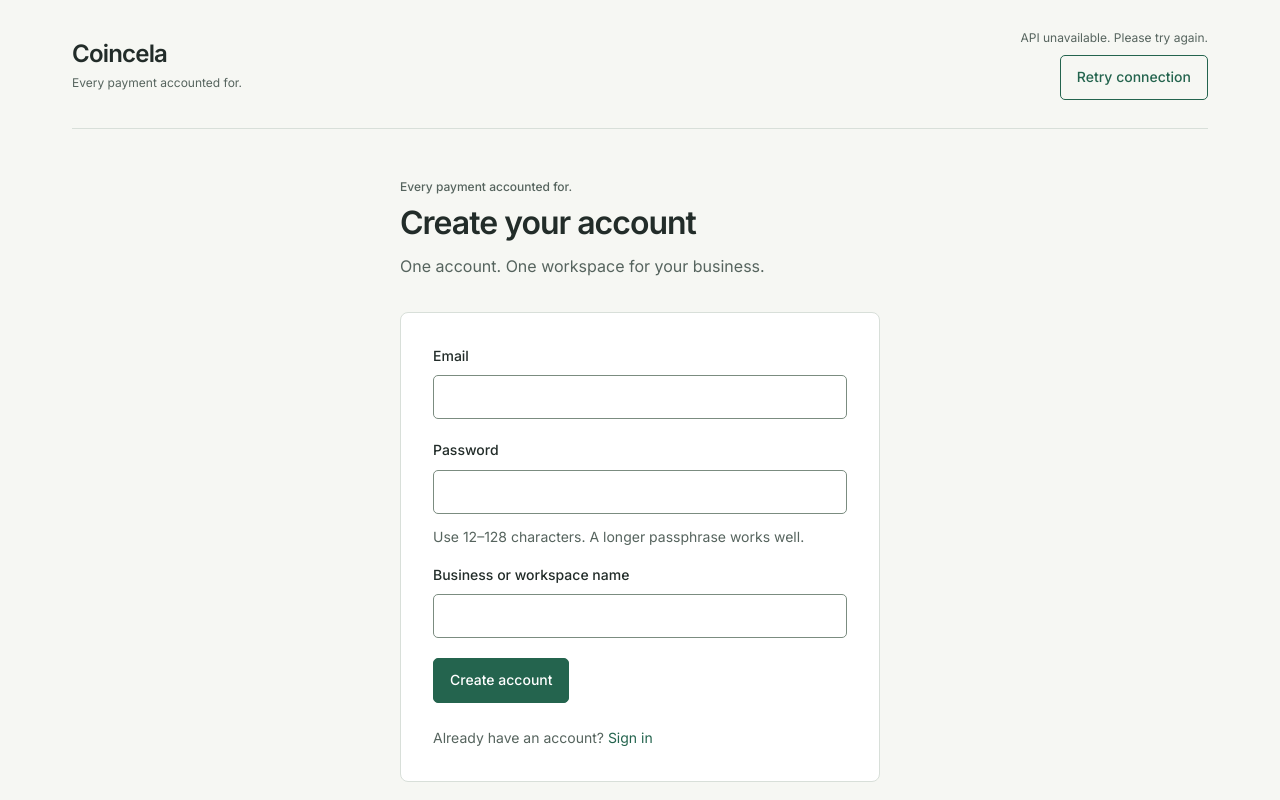
it: foundation UI › reports network failure and retries
Step 1. Click the button "Retry connection" → (1134, 77), box [1060, 55, 1208, 100]
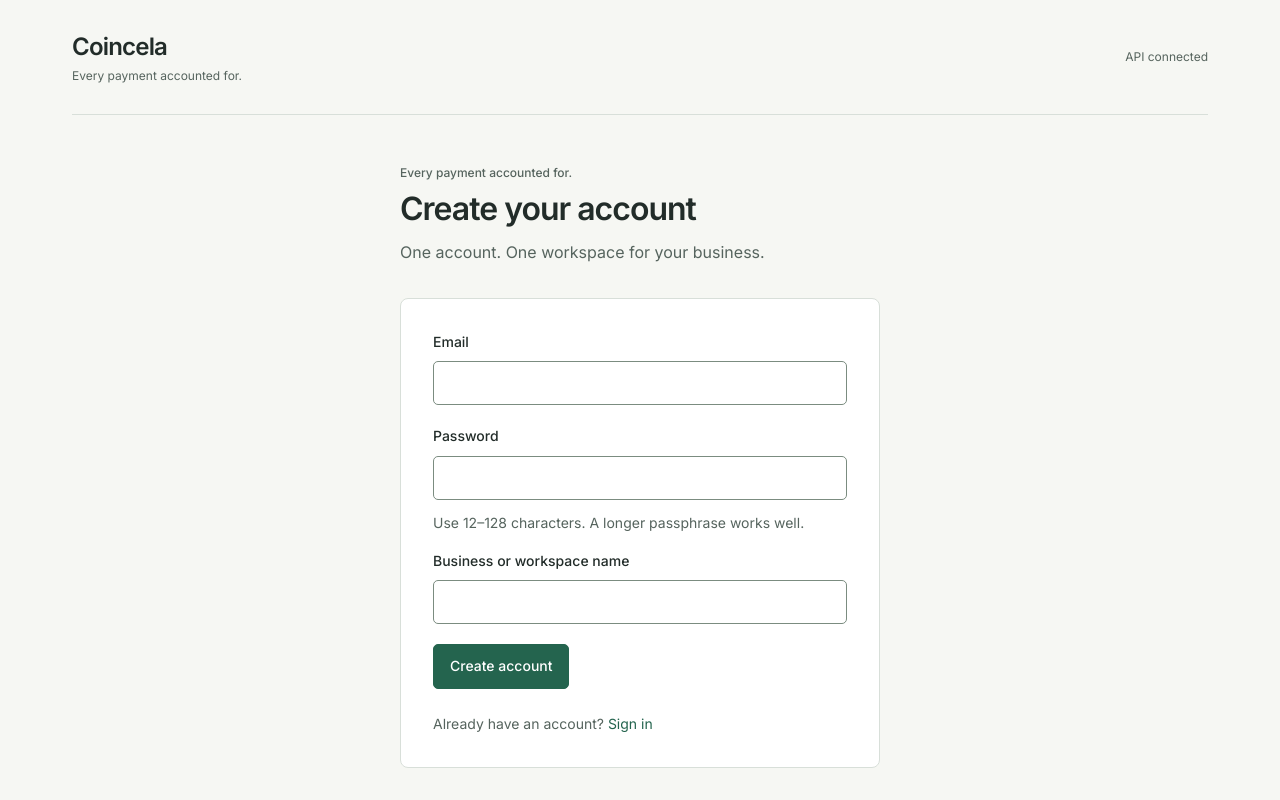
Check: the text "API connected" is shown, box [1125, 47, 1208, 66]
